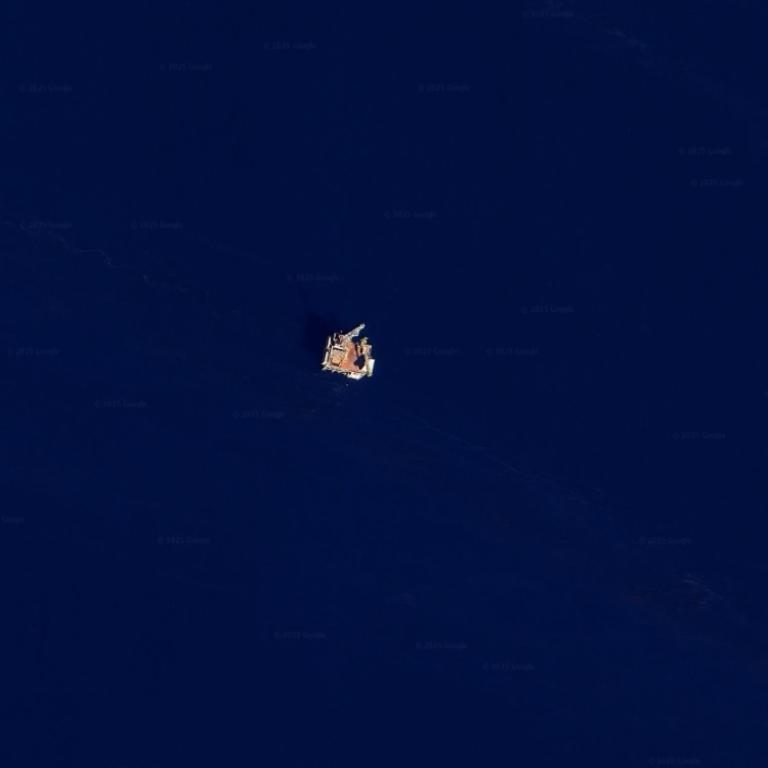platform: (319, 319, 382, 383)
